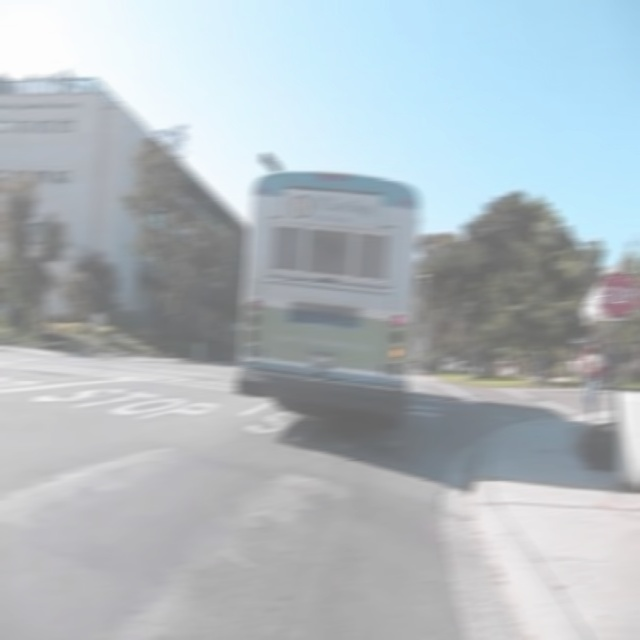stop: (600, 271, 640, 320)
